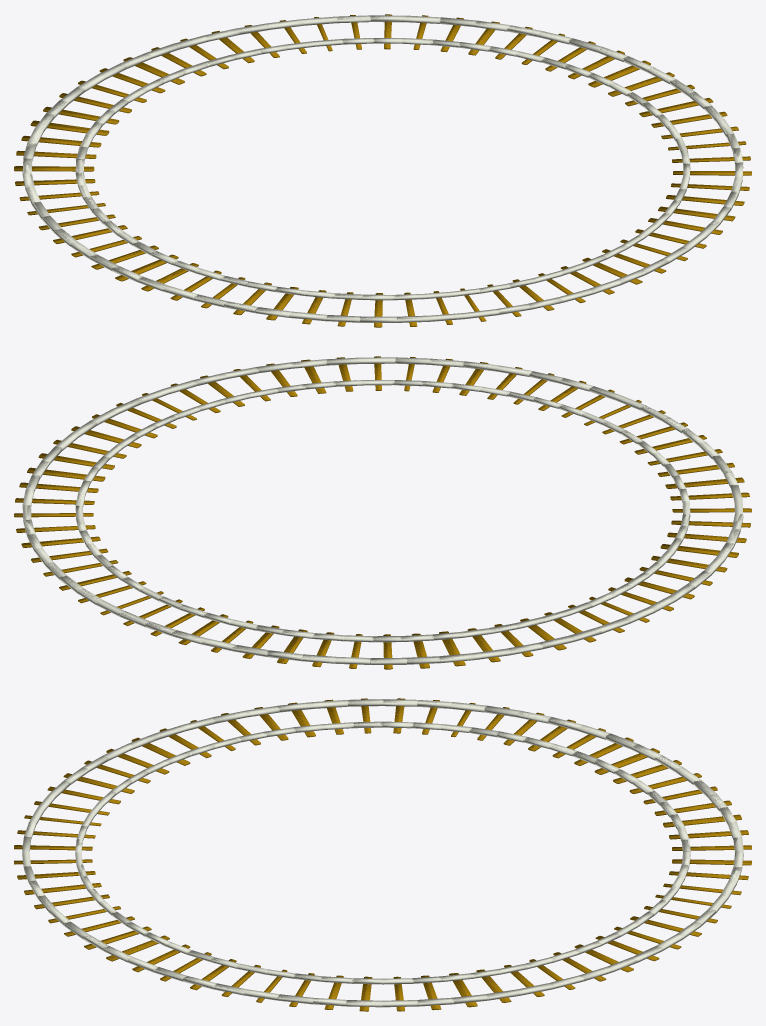
The model's file is trilho.gltf.
The picture shows the model from 3 angles, top to bottom: view 1: azimuth 30°, elevation 25°; view 2: azimuth 150°, elevation 25°; view 3: azimuth 270°, elevation 25°; orthographic projection.
Parts seen in each view (by area): view 1: Cylinder583; view 2: Cylinder583; view 3: Cylinder583.
Part boxes in pixels (bbox=[...]): Cylinder583: bbox=[14, 14, 751, 327]; Cylinder583: bbox=[14, 356, 751, 669]; Cylinder583: bbox=[14, 698, 751, 1011].
Bounding box in the file's own units: 2.08 × 0.0123 × 2.08.
